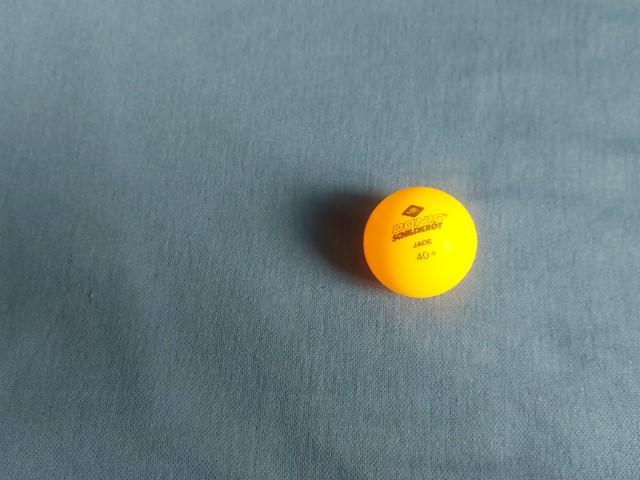oball: (159, 179, 283, 300)
